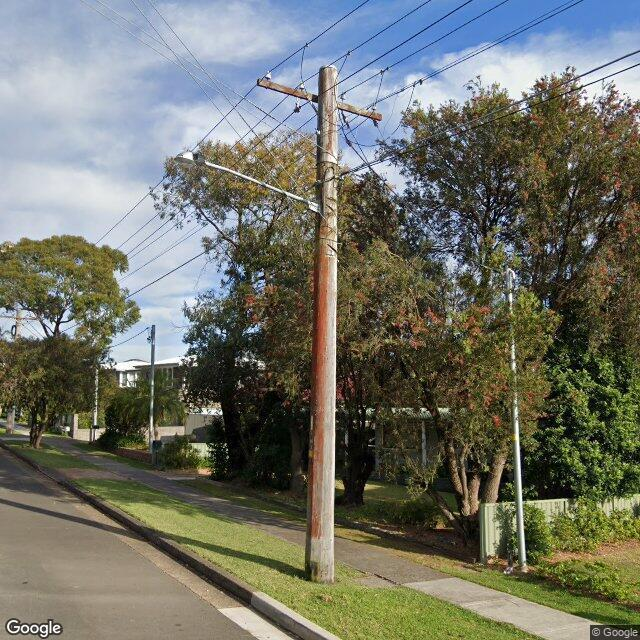crossarm: (255, 78, 383, 121), (0, 310, 41, 322)
steel-pole: (508, 268, 525, 568), (150, 324, 156, 451)
streetlight: (173, 150, 320, 212)
timber-pole: (303, 64, 340, 583), (6, 306, 22, 435)
